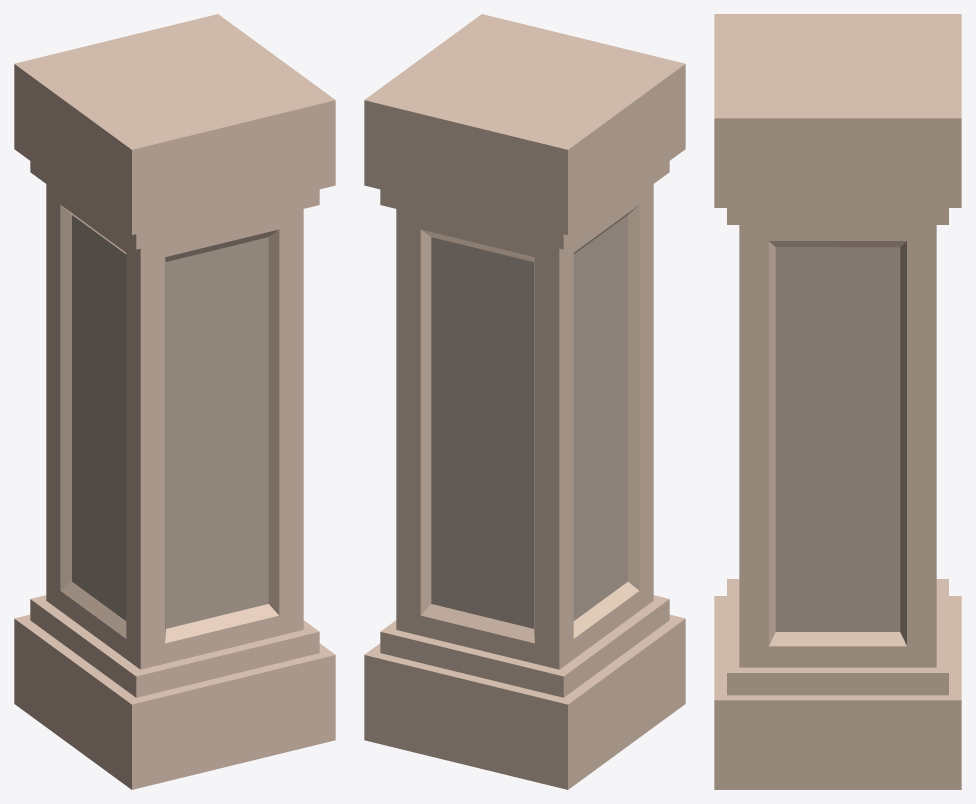
Rendered from greek_wall_column_2.fbx.
The picture shows the model from 3 angles, left to right: view 1: azimuth 30°, elevation 25°; view 2: azimuth 150°, elevation 25°; view 3: azimuth 270°, elevation 25°; orthographic projection. The views are drawn at different scales.
Parts seen in each view (by area): view 1: Cube.021; view 2: Cube.021; view 3: Cube.021.
Boxes of the visible parts, x1,y1,x2,y2 form: Cube.021: (14,14,335,789); Cube.021: (364,14,685,789); Cube.021: (714,14,961,789).
Size of the model in its own units: 100 by 300 by 100.
